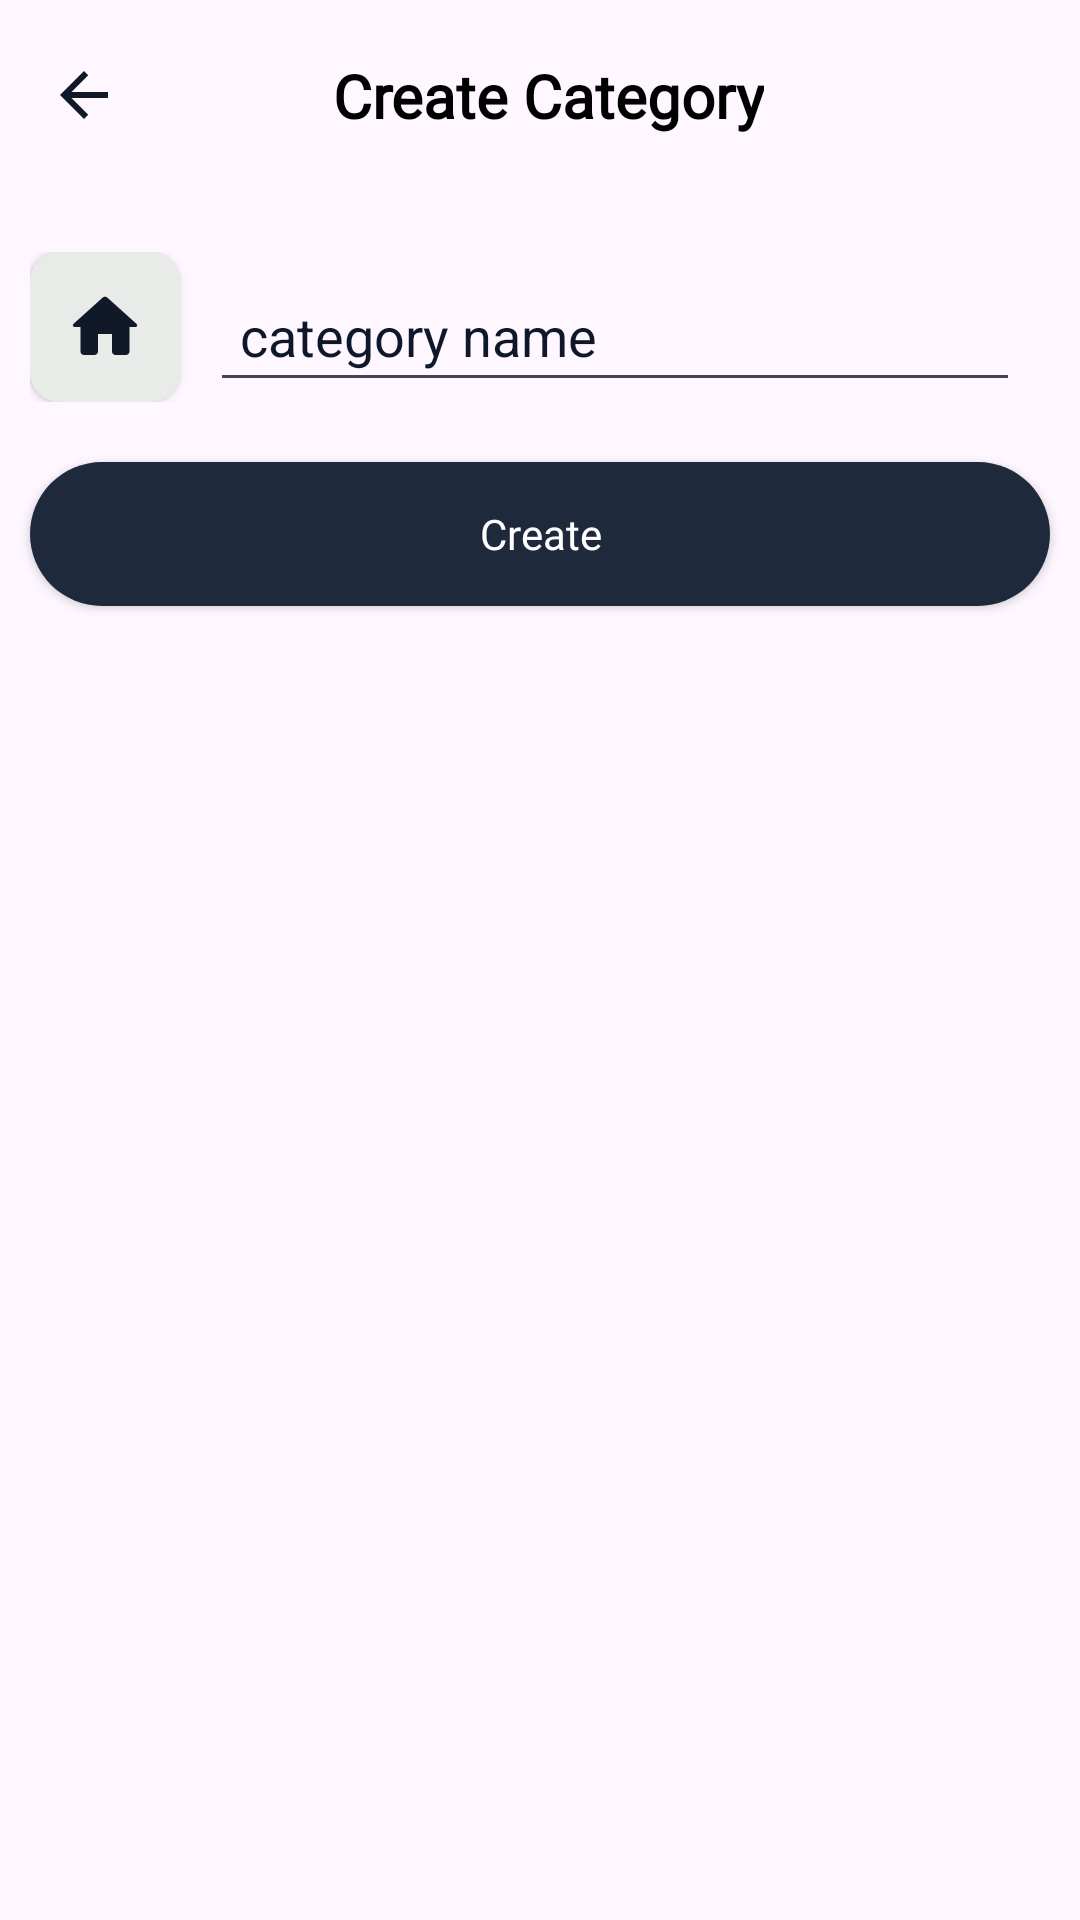

Icon bounding boxes for this 1080*1920 phone screenshot, format rect(x1, y1, x2, y2):
arrow back: rect(60, 71, 108, 119)
home: rect(73, 296, 137, 355)
